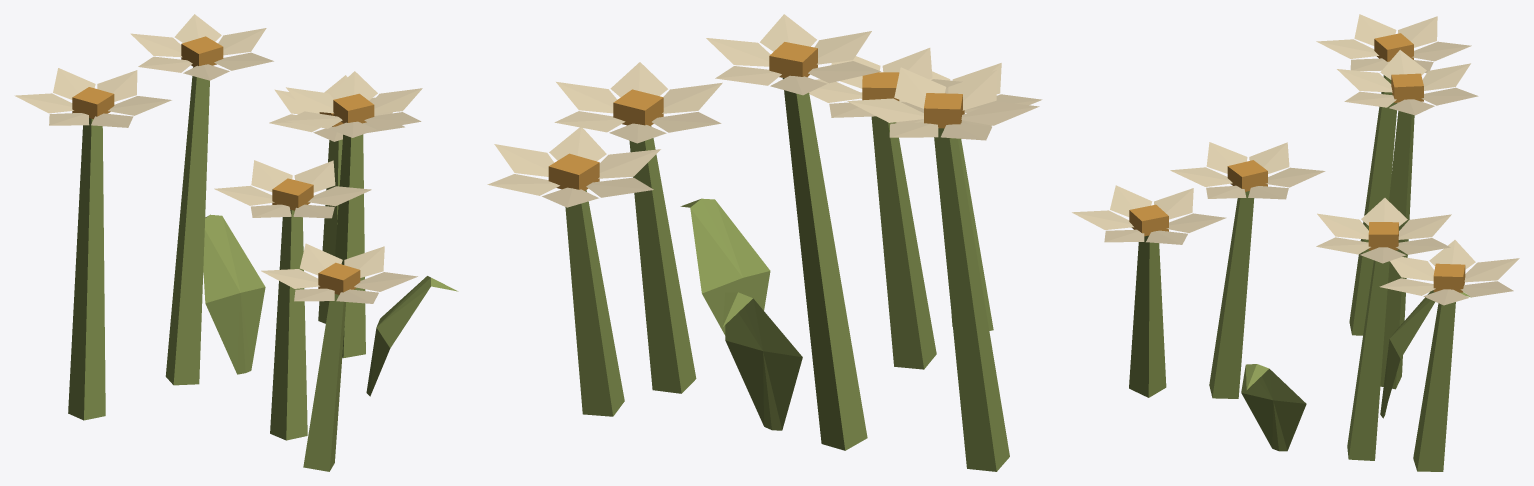
Rendered from foliage_flower_drift_b.glb.
3 views of the same model, side by side, from view 1: azimuth 30°, elevation 25°; view 2: azimuth 150°, elevation 25°; view 3: azimuth 270°, elevation 25° (orthographic). The views are drawn at different scales.
Visible parts, largest first — view 1: foliage_flower_drift_b_cluster_material_00, foliage_flower_drift_b_cluster_material_01, foliage_flower_drift_b_cluster_material_02; view 2: foliage_flower_drift_b_cluster_material_00, foliage_flower_drift_b_cluster_material_01, foliage_flower_drift_b_cluster_material_02; view 3: foliage_flower_drift_b_cluster_material_00, foliage_flower_drift_b_cluster_material_01, foliage_flower_drift_b_cluster_material_02.
Part boxes in pixels (<box>): foliage_flower_drift_b_cluster_material_00: <box>68,67,458,471</box>; foliage_flower_drift_b_cluster_material_01: <box>14,14,422,303</box>; foliage_flower_drift_b_cluster_material_02: <box>72,36,374,294</box>; foliage_flower_drift_b_cluster_material_00: <box>565,78,1009,471</box>; foliage_flower_drift_b_cluster_material_01: <box>487,14,1042,207</box>; foliage_flower_drift_b_cluster_material_02: <box>548,42,964,190</box>; foliage_flower_drift_b_cluster_material_00: <box>1129,75,1471,471</box>; foliage_flower_drift_b_cluster_material_01: <box>1072,14,1519,305</box>; foliage_flower_drift_b_cluster_material_02: <box>1129,33,1465,292</box>.
Bounding box in the file's own units: 0.2946 × 0.2265 × 0.2869.
